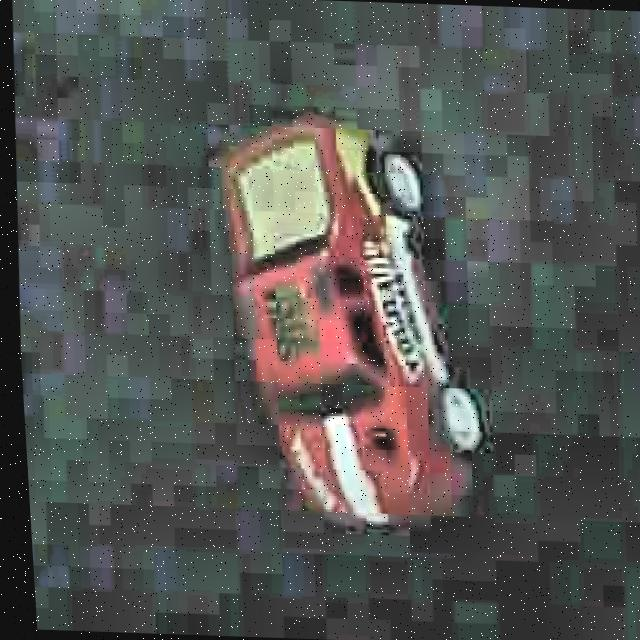car: (200, 110, 502, 524)
